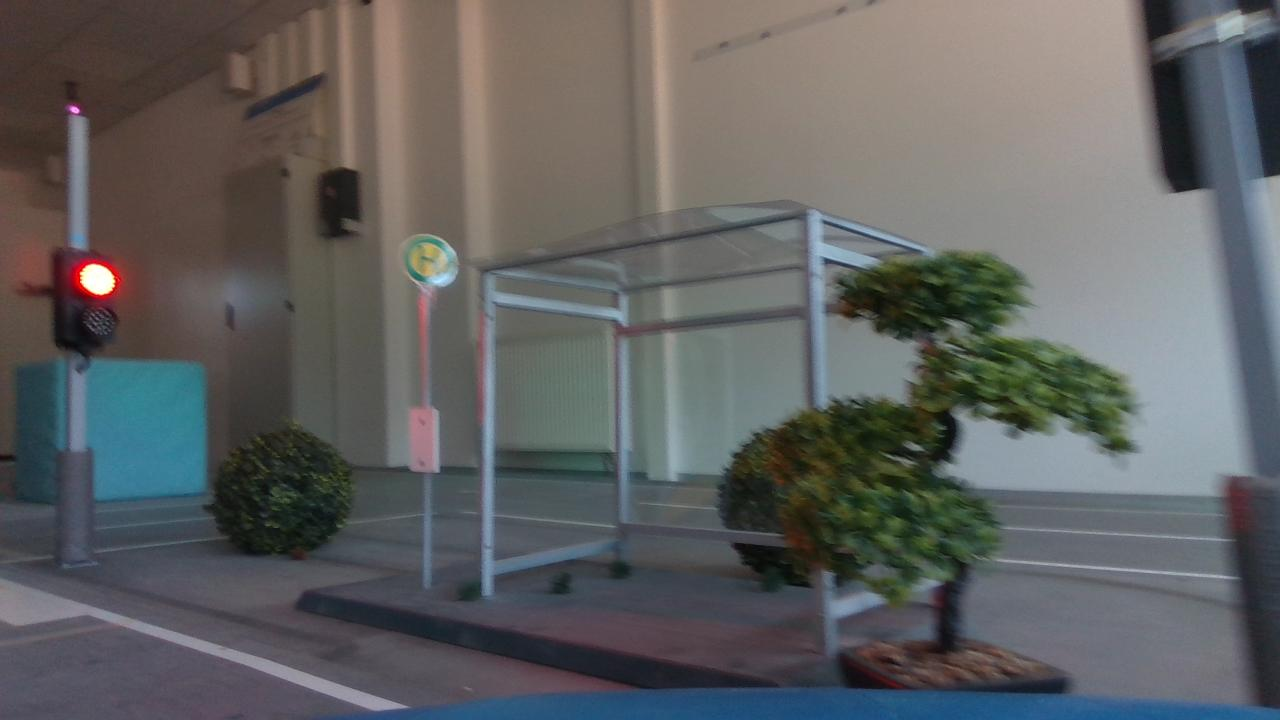traffic_light_red: (35, 235, 129, 365)
